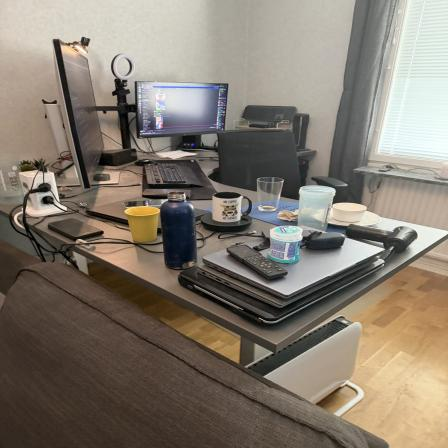blue_bottle: (159, 190, 200, 270)
phone: (43, 215, 107, 242)
yellow_cup: (122, 207, 161, 245)
